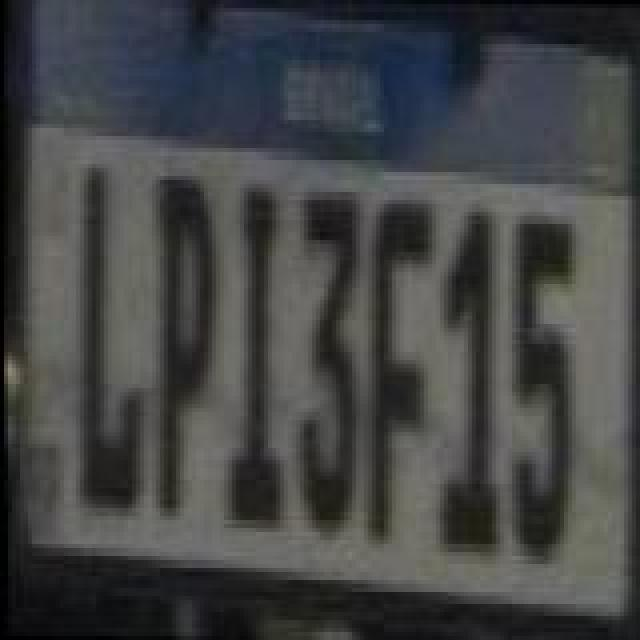1: (432, 202, 504, 558)
3: (286, 180, 362, 540)
5: (500, 208, 580, 552)
F: (358, 192, 434, 544)
I: (216, 174, 288, 530)
L: (70, 162, 146, 510)
P: (142, 170, 218, 518)
